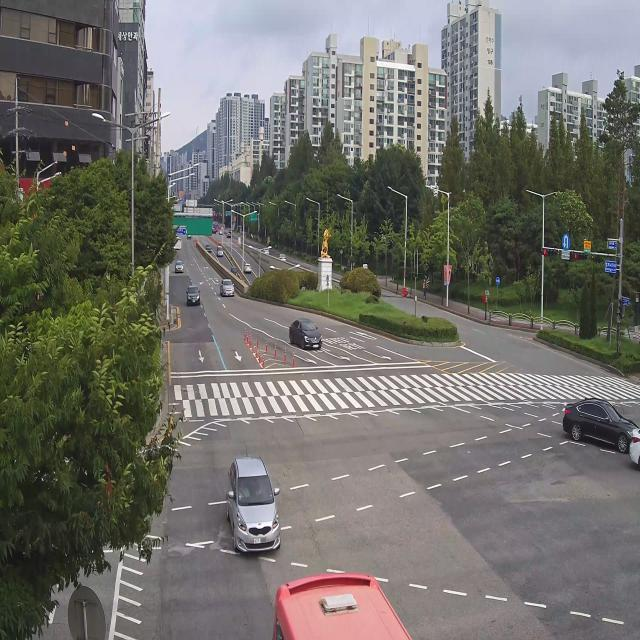Car: (212, 439, 288, 567), (536, 383, 640, 474), (285, 304, 332, 366), (182, 277, 202, 314), (218, 272, 238, 299), (175, 257, 191, 278), (205, 242, 216, 256), (217, 244, 224, 260), (244, 262, 252, 275), (226, 230, 232, 238)
